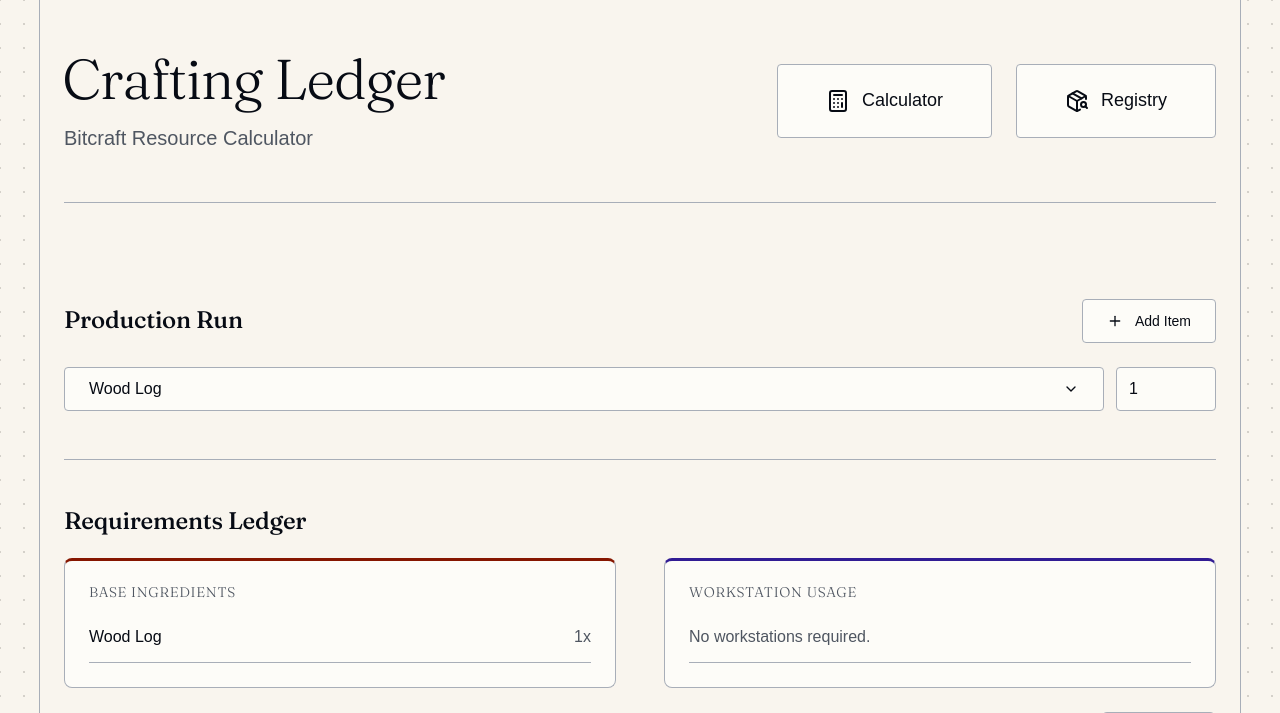
Multi-target UI › should add a second target row when "Add Item" is clicked
The image size is (1280, 713).
Expected: the number of dropdowns named "target item" is 1, x1=64 y1=367 x2=1104 y2=411
Note: Click "Add Item"
Click the button "Add Item". click: (1149, 321)
box: x1=1082 y1=299 x2=1216 y2=343
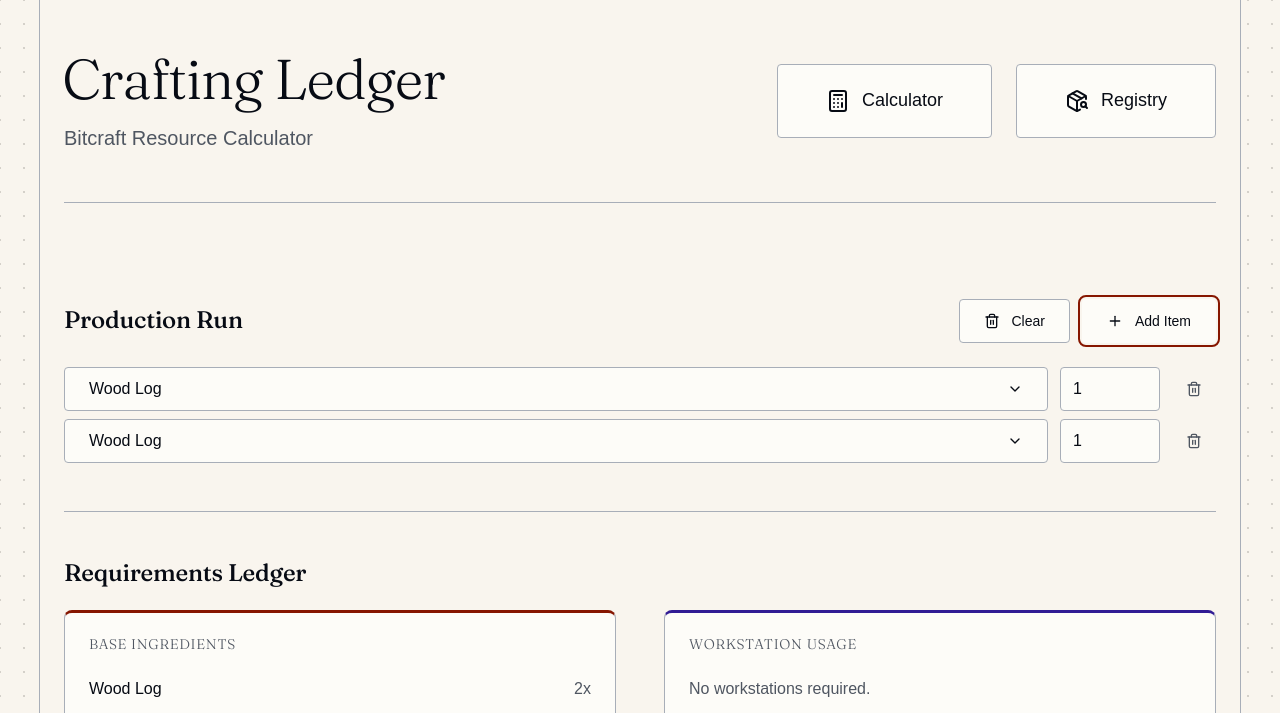
Expected: the number of dropdowns named "target item" is 2, x1=64 y1=367 x2=1048 y2=411; x1=64 y1=419 x2=1048 y2=463
